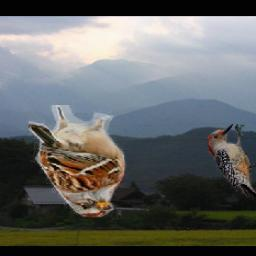Sparrow: (29, 106, 127, 218)
Woodpecker: (207, 124, 256, 198)
